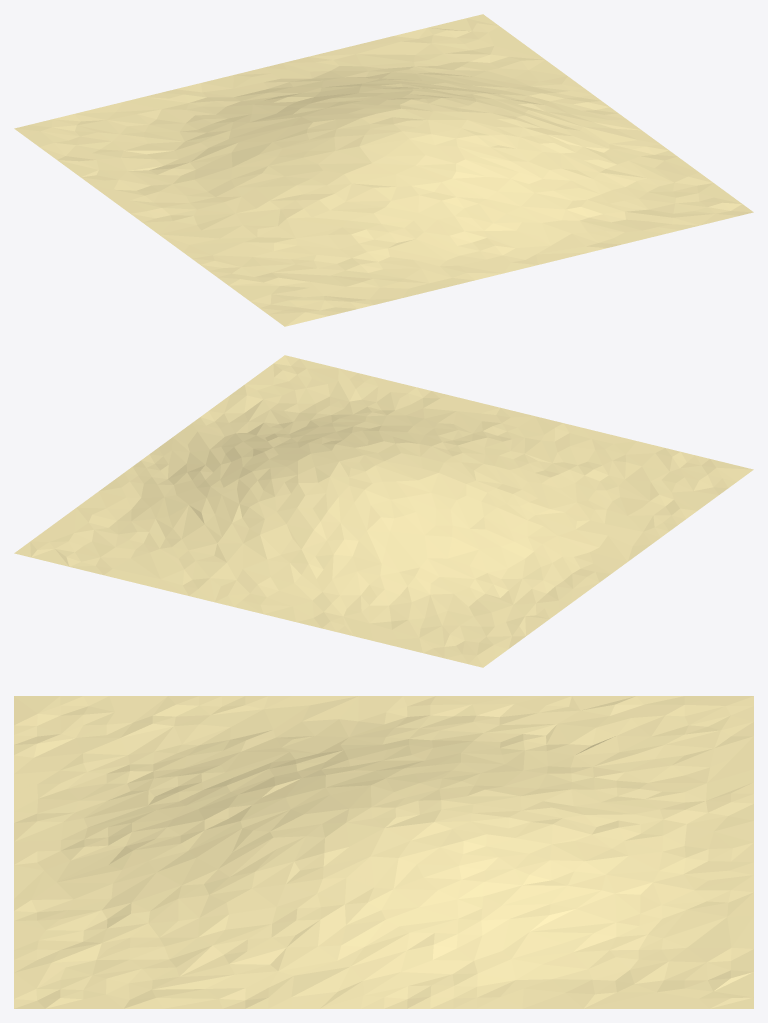
Rendered from Terrain_m_05.fbx.
3 views of the same model, one above another, from view 1: azimuth 30°, elevation 25°; view 2: azimuth 150°, elevation 25°; view 3: azimuth 270°, elevation 25° (orthographic). The views are drawn at different scales.
Parts seen in each view (by area): view 1: Terrain_m_05; view 2: Terrain_m_05; view 3: Terrain_m_05.
Boxes of the visible parts, x1,y1,x2,y2 form: Terrain_m_05: [14, 14, 753, 326]; Terrain_m_05: [14, 355, 753, 667]; Terrain_m_05: [14, 696, 753, 1008].
Size of the model in its own units: 10000 by 833 by 10000.
